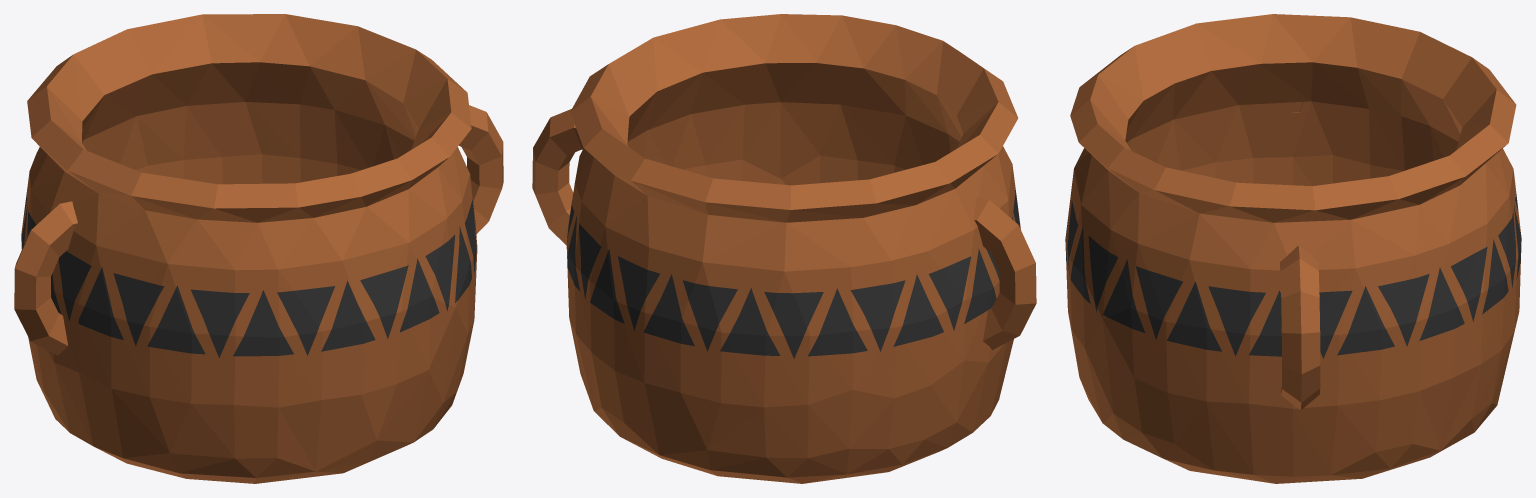
The model's file is Pottery 22_3.fbx.
The picture shows the model from 3 angles, left to right: view 1: azimuth 30°, elevation 25°; view 2: azimuth 150°, elevation 25°; view 3: azimuth 270°, elevation 25°; orthographic projection.
Visible parts, largest first — view 1: Pottery 22_3; view 2: Pottery 22_3; view 3: Pottery 22_3.
Part boxes in pixels (box(x1,y1,x2,y2)): Pottery 22_3: box(14, 14, 503, 483); Pottery 22_3: box(532, 14, 1036, 483); Pottery 22_3: box(1065, 14, 1521, 483).
Size of the model in its own units: 64.97 by 39.4 by 51.68.
